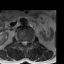CCS_normal: (23, 39, 25, 47)
LFS_stenosis: (28, 39, 30, 45)
LLS_normal: (25, 39, 28, 46)
RFS_stenosis: (19, 39, 21, 45)
RLS_normal: (21, 39, 23, 45)
